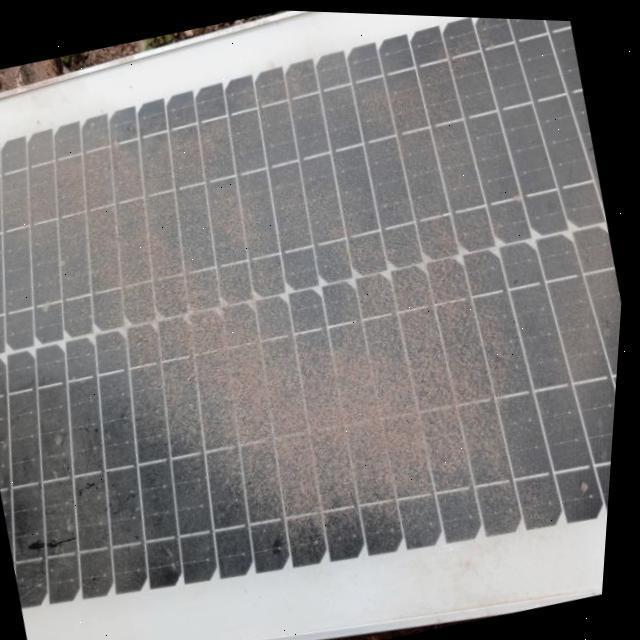Surface Contaminant: (0, 12, 625, 612)
